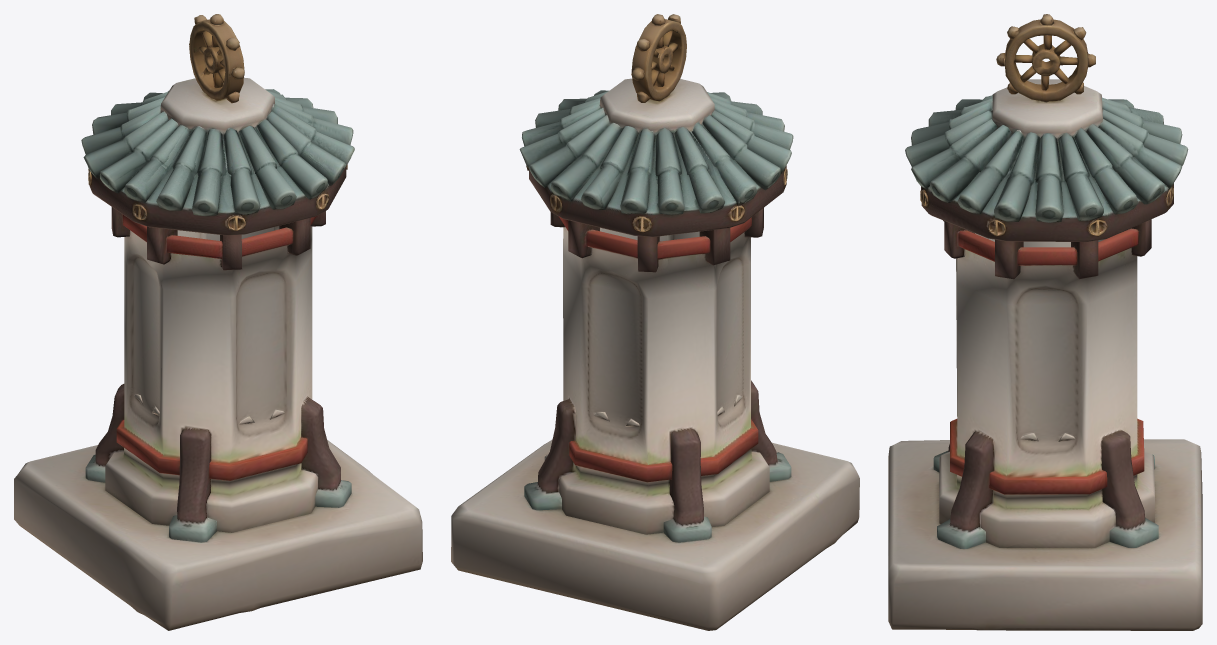
The model's file is tripo_convert_d0294952-3e2e-4df2-bee1-2e669f906a02.fbx.
The picture shows the model from 3 angles, left to right: view 1: azimuth 30°, elevation 25°; view 2: azimuth 150°, elevation 25°; view 3: azimuth 270°, elevation 25°; orthographic projection. The views are drawn at different scales.
Visible parts, largest first — view 1: tripo_node_d0294952; view 2: tripo_node_d0294952; view 3: tripo_node_d0294952.
Part boxes in pixels (x1=…): tripo_node_d0294952: x1=14, y1=14, x2=422, y2=630; tripo_node_d0294952: x1=451, y1=14, x2=859, y2=630; tripo_node_d0294952: x1=888, y1=14, x2=1202, y2=630.
Bounding box in the file's own units: 0.5254 × 0.998 × 0.5176.
1 material, 1 textured.
